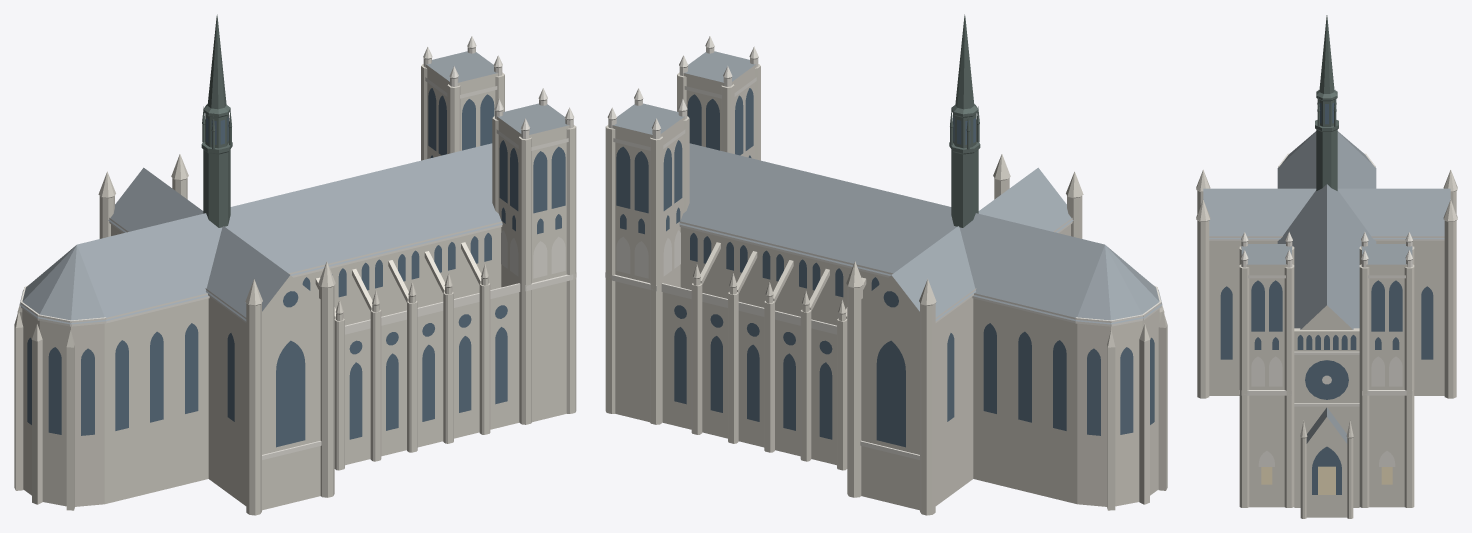
The model's file is sf-grace-cathedral.glb.
3 renders of one model, left to right at view 1: azimuth 30°, elevation 25°; view 2: azimuth 150°, elevation 25°; view 3: azimuth 270°, elevation 25°, orthographic. The views are drawn at different scales.
Parts seen in each view (by area): view 1: Grace Cathedral; view 2: Grace Cathedral; view 3: Grace Cathedral.
Part boxes in pixels (x1=…): Grace Cathedral: x1=14, y1=14, x2=576, y2=515; Grace Cathedral: x1=605, y1=14, x2=1167, y2=515; Grace Cathedral: x1=1196, y1=15, x2=1457, y2=518.
Size of the model in its own units: 102 by 80.2 by 51.76.
